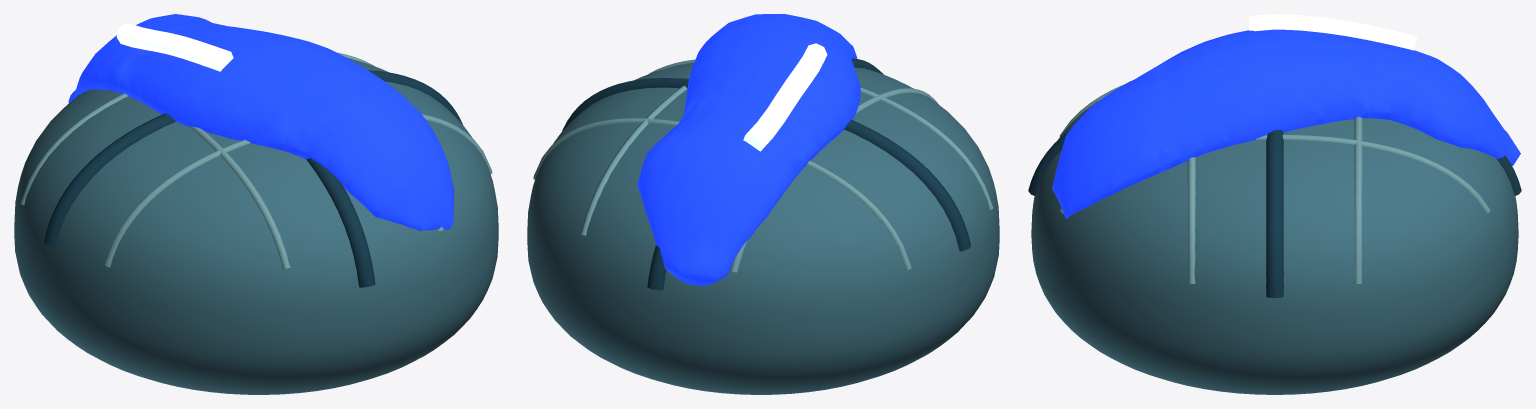
File: pu_lightning.glb
3 views of the same model, side by side, from view 1: azimuth 30°, elevation 25°; view 2: azimuth 150°, elevation 25°; view 3: azimuth 270°, elevation 25° (orthographic). The views are drawn at different scales.
Parts seen in each view (by area): view 1: orb, bolt, orb_groove_13, orb_seam_13, bolt_edge; view 2: orb, bolt, orb_seam_13, orb_groove_13, bolt_edge; view 3: orb, bolt, orb_groove_13, orb_seam_13, bolt_edge.
Boxes of the visible parts, x1,y1,x2,y2 form: orb: (14,57,498,394); bolt: (68,14,453,230); orb_groove_13: (43,70,462,287); orb_seam_13: (20,52,492,269); bolt_edge: (116,23,233,71); orb: (527,62,999,394); bolt: (637,14,860,285); orb_seam_13: (533,59,993,272); orb_groove_13: (562,58,970,290); bolt_edge: (743,43,827,151); orb: (1031,81,1518,394); bolt: (1052,29,1520,219); orb_groove_13: (1028,129,1521,298); orb_seam_13: (1059,83,1490,283); bolt_edge: (1248,14,1416,50).
Size of the model in its own units: 20.88 by 14.67 by 21.27.
